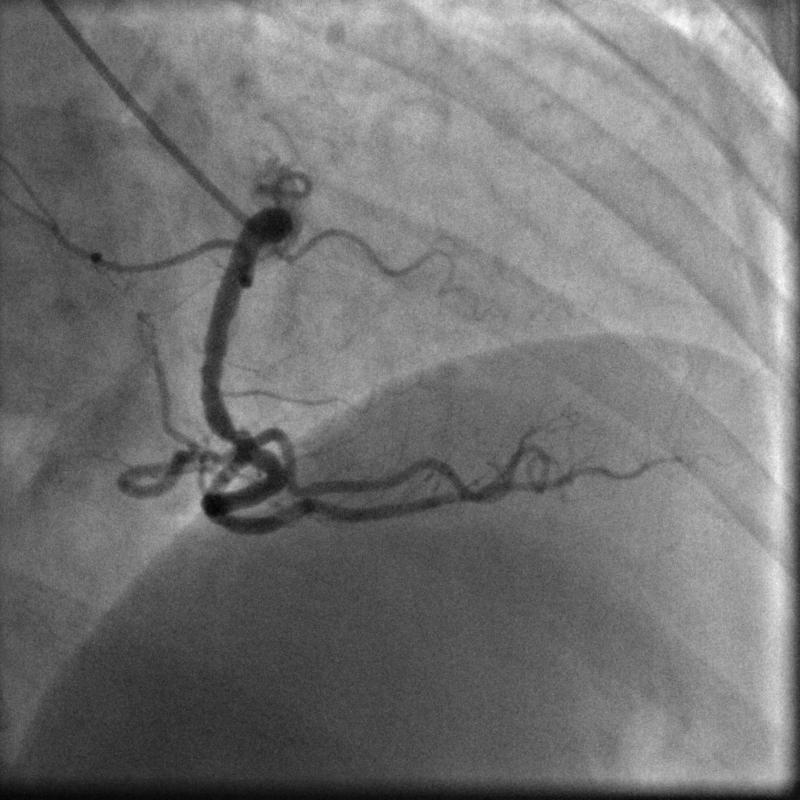Stenosis: (211, 421, 261, 456)
